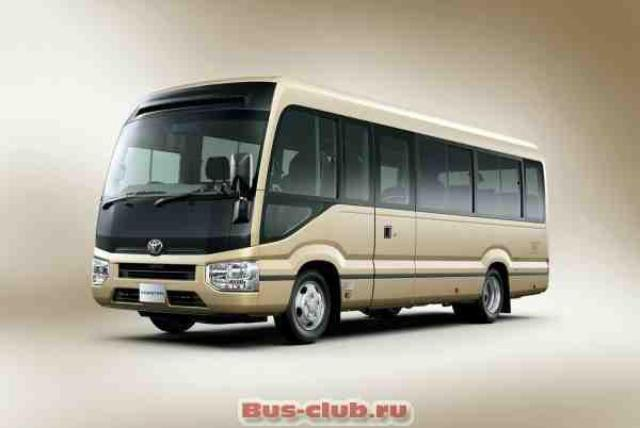bus: (86, 71, 559, 340)
